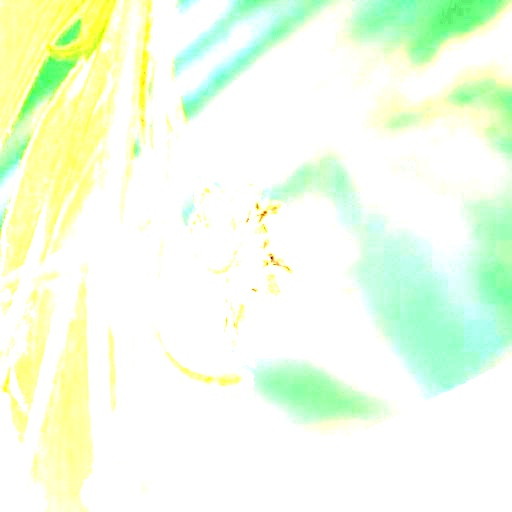Gray Mold: (186, 174, 296, 366)
